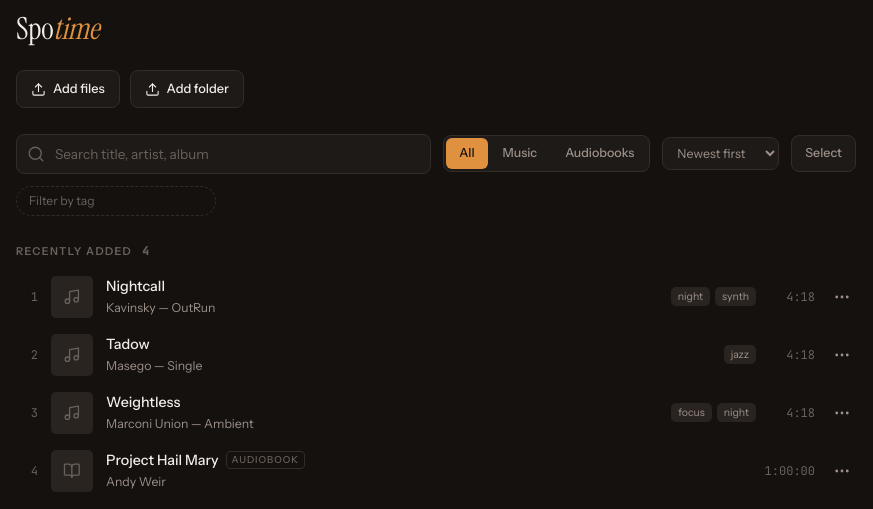
Test: search › says the filters emptied the list rather than offering an upload prompt
Type "nothing matches this" into the search field named "Search library" at (224, 154), box [16,134,431,174]
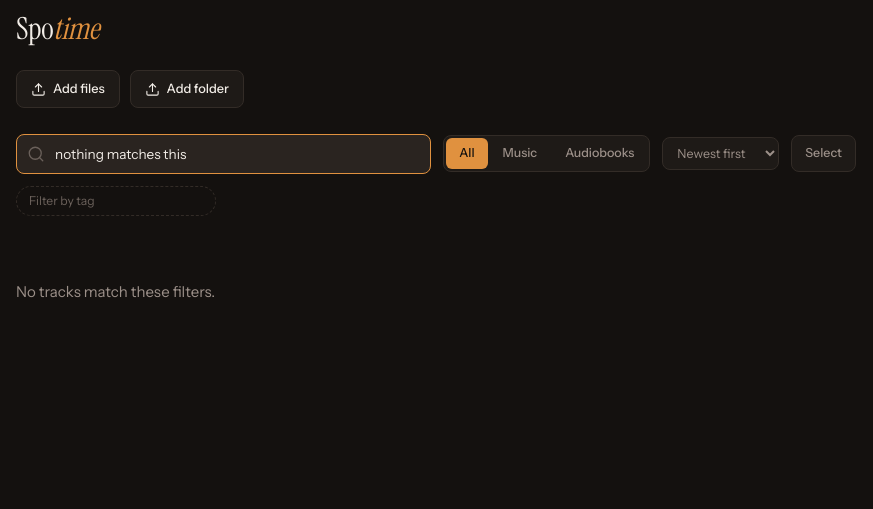
Check: the text "No tracks match these filters." is shown, box [16,282,215,301]
